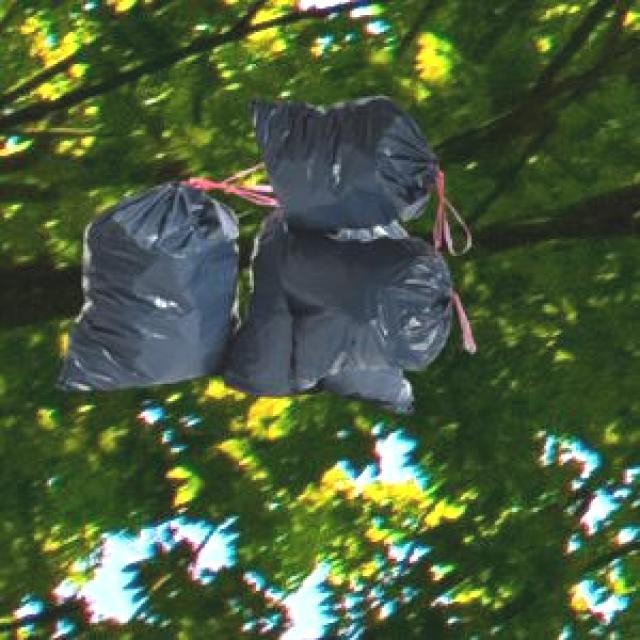Trashbag: (51, 178, 242, 402), (277, 229, 457, 393), (251, 88, 443, 240)
